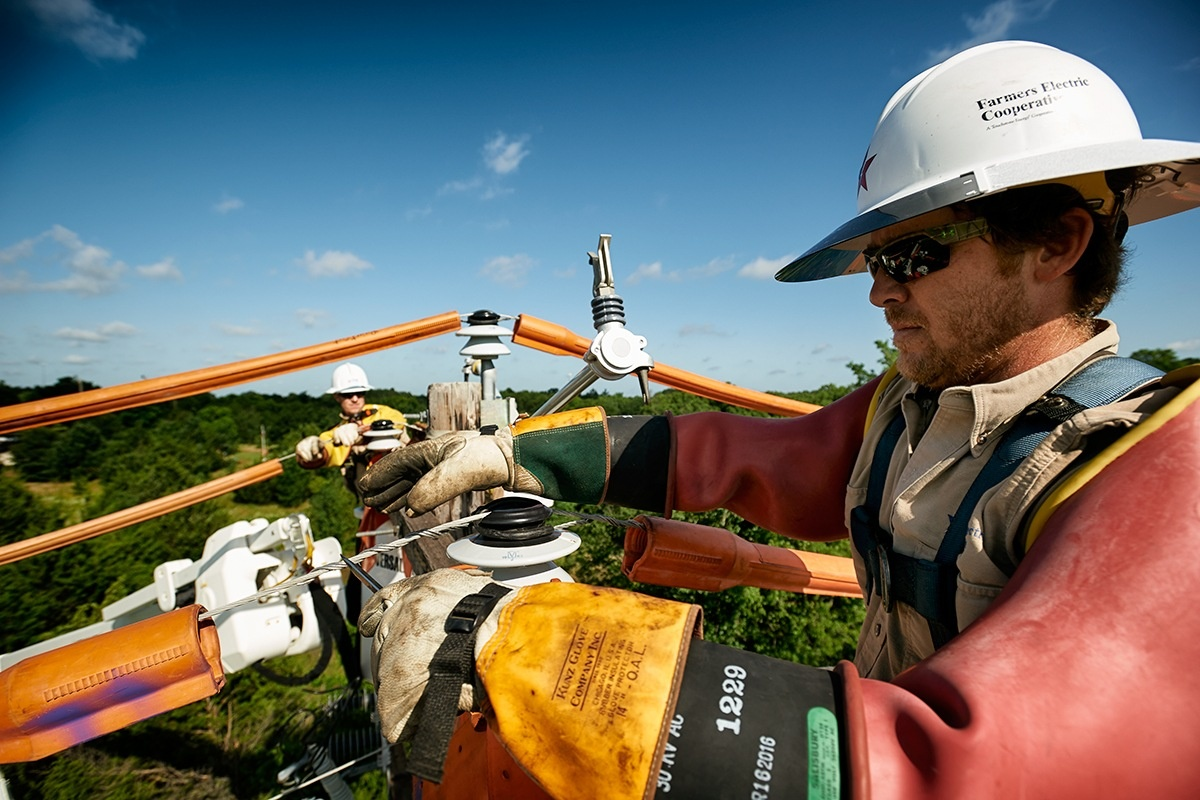epi: (656, 34, 1200, 800), (300, 355, 443, 476)
